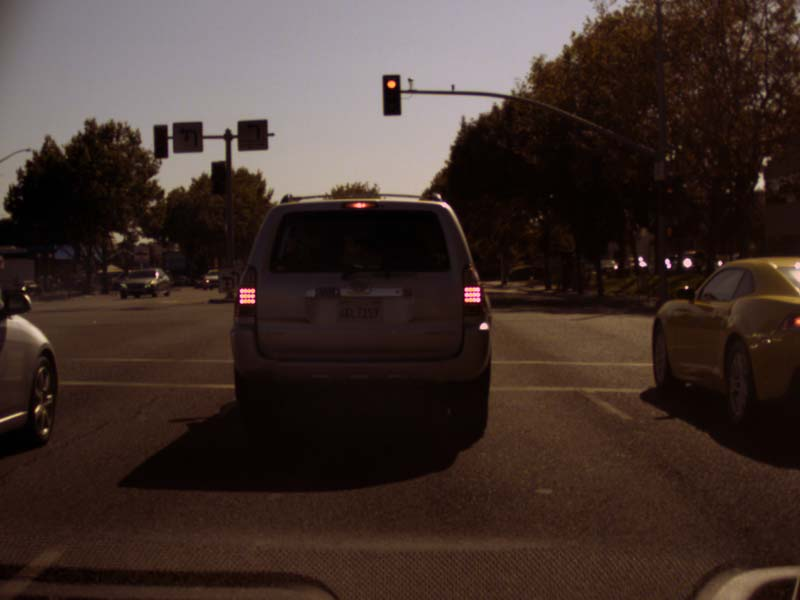Red: (382, 74, 399, 115), (661, 181, 677, 213)
